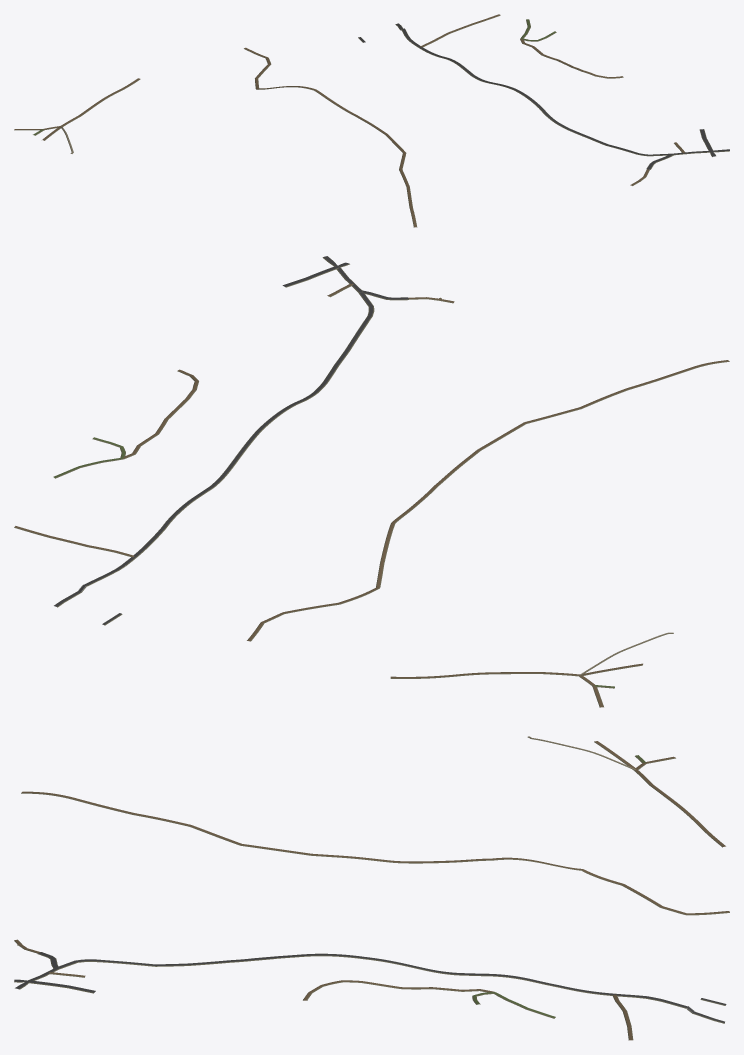
The picture shows the model from 3 angles, top to bottom: view 1: azimuth 30°, elevation 25°; view 2: azimuth 150°, elevation 25°; view 3: azimuth 270°, elevation 25°; orthographic projection. The views are drawn at different scales.
Visible parts, largest first — view 1: roads; view 2: roads; view 3: roads.
Part boxes in pixels (bbox=[...]): roads: bbox=[14, 14, 729, 227]; roads: bbox=[14, 256, 729, 707]; roads: bbox=[14, 736, 729, 1040].
Bounding box in the file's own units: 805 × 101 × 809.
